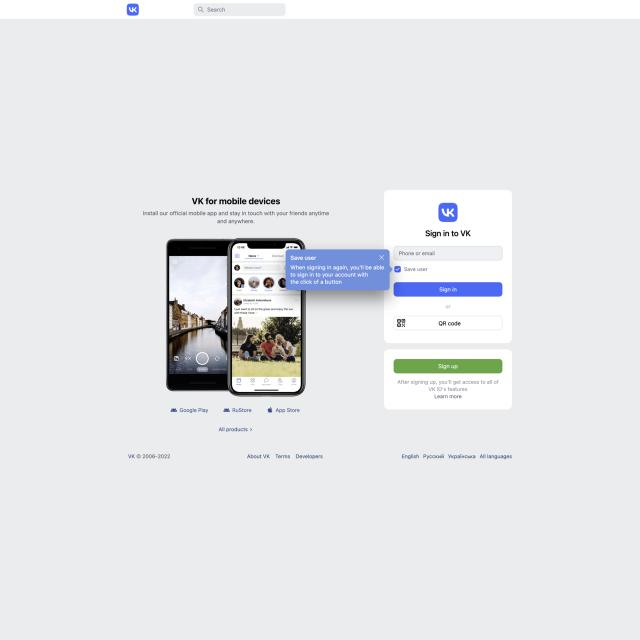CheckBox: (393, 314, 504, 332), (393, 282, 503, 298), (393, 358, 502, 374), (217, 425, 255, 433), (393, 265, 402, 274)
CheckedTextView: (392, 245, 504, 262), (194, 2, 286, 16)
breadcrumbs: (188, 196, 283, 208), (421, 228, 476, 239)
carousel: (396, 318, 406, 328), (197, 6, 205, 14)
date picker: (438, 201, 458, 223), (126, 2, 141, 16)
footer: (398, 248, 438, 258), (207, 4, 230, 14)
label: (287, 250, 393, 290)
